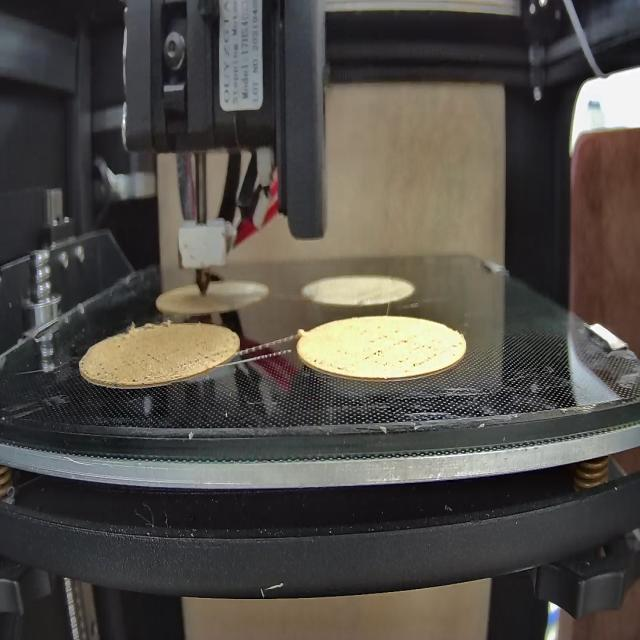under_extrusion: (364, 326, 444, 373), (92, 354, 166, 386), (178, 349, 224, 370), (312, 355, 345, 374)
